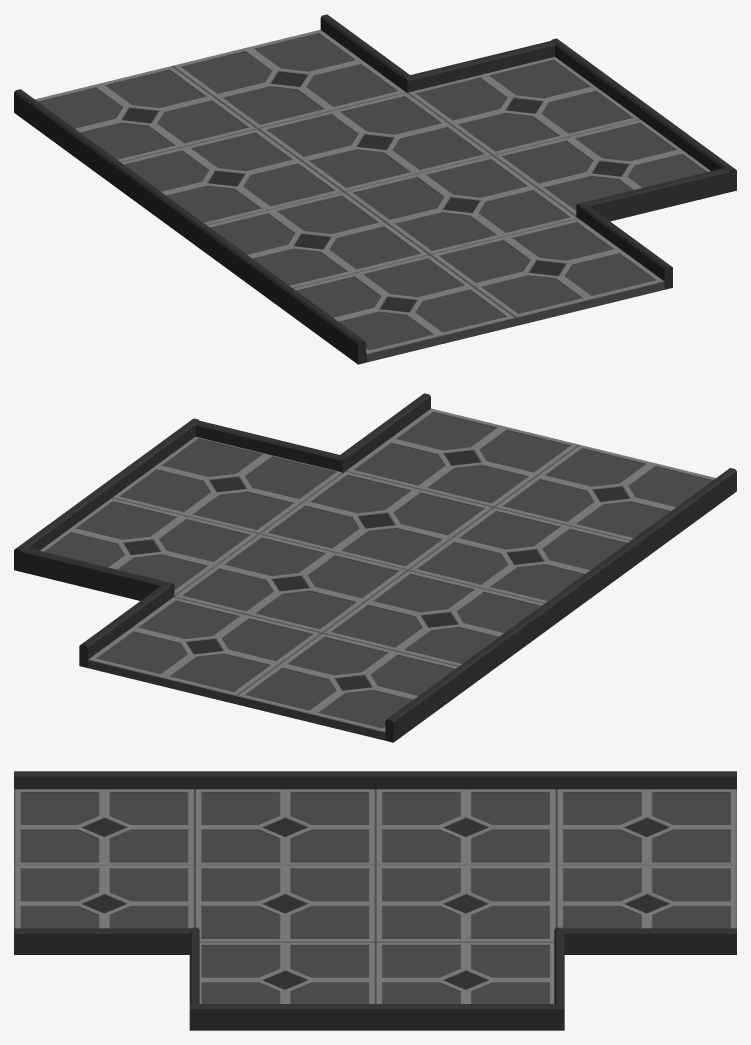
The model's file is Stone_Path_Bank.fbx.
The picture shows the model from 3 angles, top to bottom: view 1: azimuth 30°, elevation 25°; view 2: azimuth 150°, elevation 25°; view 3: azimuth 270°, elevation 25°; orthographic projection. The views are drawn at different scales.
Visible parts, largest first — view 1: Stone_Path_Bank; view 2: Stone_Path_Bank; view 3: Stone_Path_Bank.
Boxes of the visible parts, x1,y1,x2,y2 form: Stone_Path_Bank: [14, 14, 736, 364]; Stone_Path_Bank: [14, 393, 736, 742]; Stone_Path_Bank: [14, 771, 736, 1030].
Bounding box in the file's own units: 369 × 16.76 × 476.
